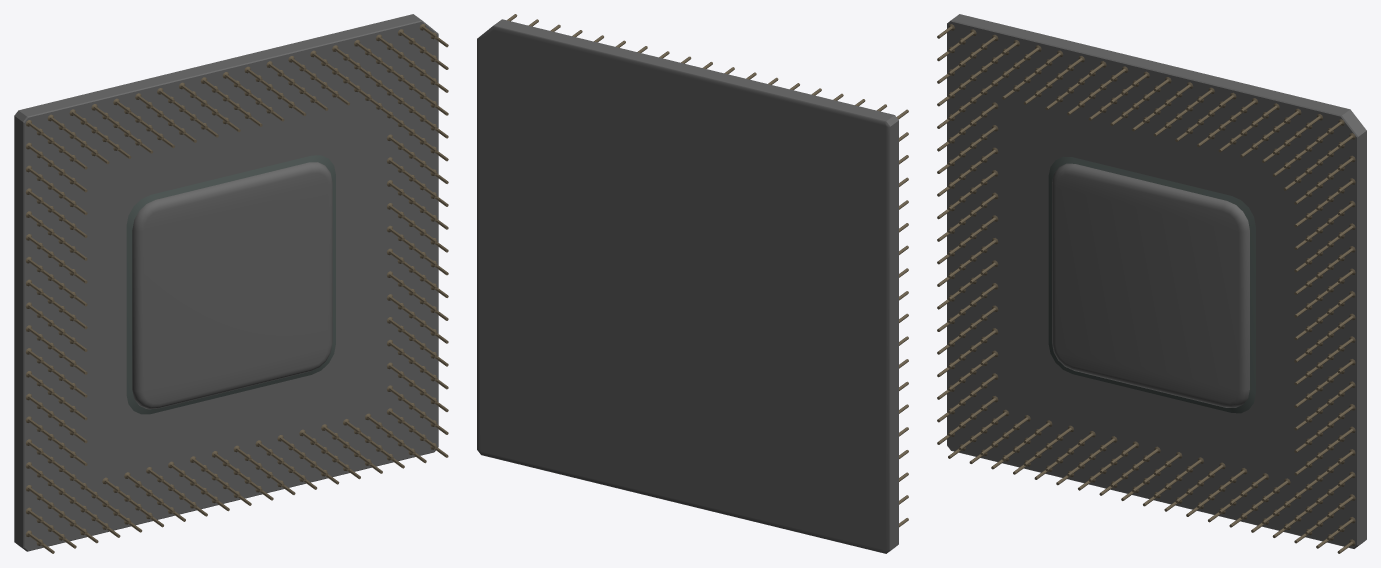
The model's file is cpu.obj.
3 renders of one model, left to right at view 1: azimuth 30°, elevation 25°; view 2: azimuth 150°, elevation 25°; view 3: azimuth 330°, elevation 25°, orthographic.
Parts seen in each view (by area): view 1: support, center, connectors, contour; view 2: support, connectors; view 3: support, center, connectors, contour.
Boxes of the visible parts, x1=… form: support: x1=14, y1=14, x2=438, y2=551; center: x1=132, y1=162, x2=332, y2=409; connectors: x1=25, y1=24, x2=448, y2=553; contour: x1=126, y1=155, x2=335, y2=414; support: x1=477, y1=19, x2=898, y2=553; connectors: x1=507, y1=14, x2=908, y2=527; support: x1=947, y1=14, x2=1366, y2=548; center: x1=1052, y1=163, x2=1249, y2=407; connectors: x1=937, y1=24, x2=1355, y2=553; contour: x1=1048, y1=156, x2=1255, y2=413.
Bounding box in the file's own units: 33.86 × 33.86 × 3.27.
